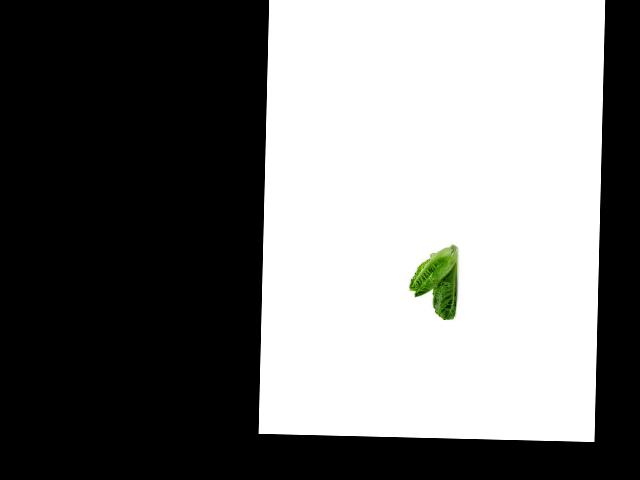lettuce: (430, 260, 462, 325)
